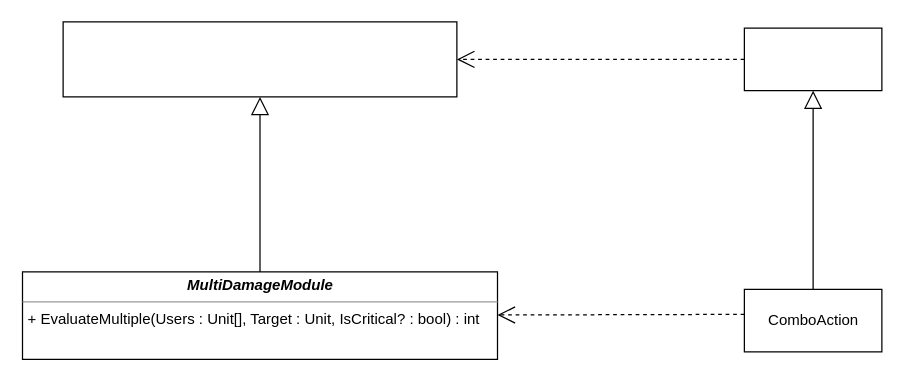
Some shapes in this 904 by 381 pixel diagram are drawn without their labels. Here are the shapes that lost their labels. From the top down, the centre of each, then its label:
pixel 259 59: DamageModule + Evaluate(User : Unit, Target, Unit, IsCritical? : bool) : int
pixel 812 59: BattleAction
